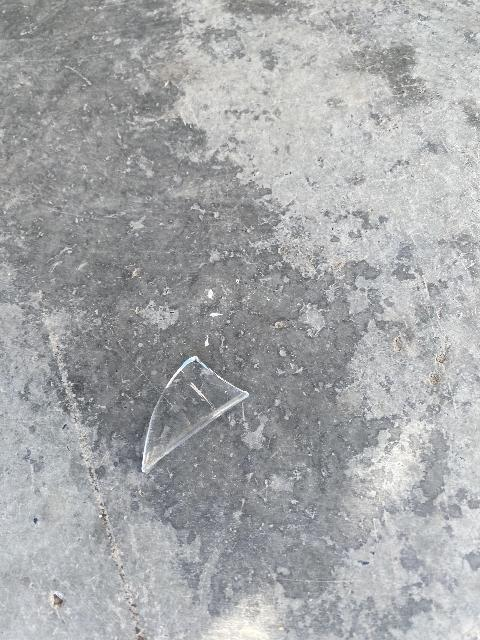Cam: (143, 348, 248, 473)
